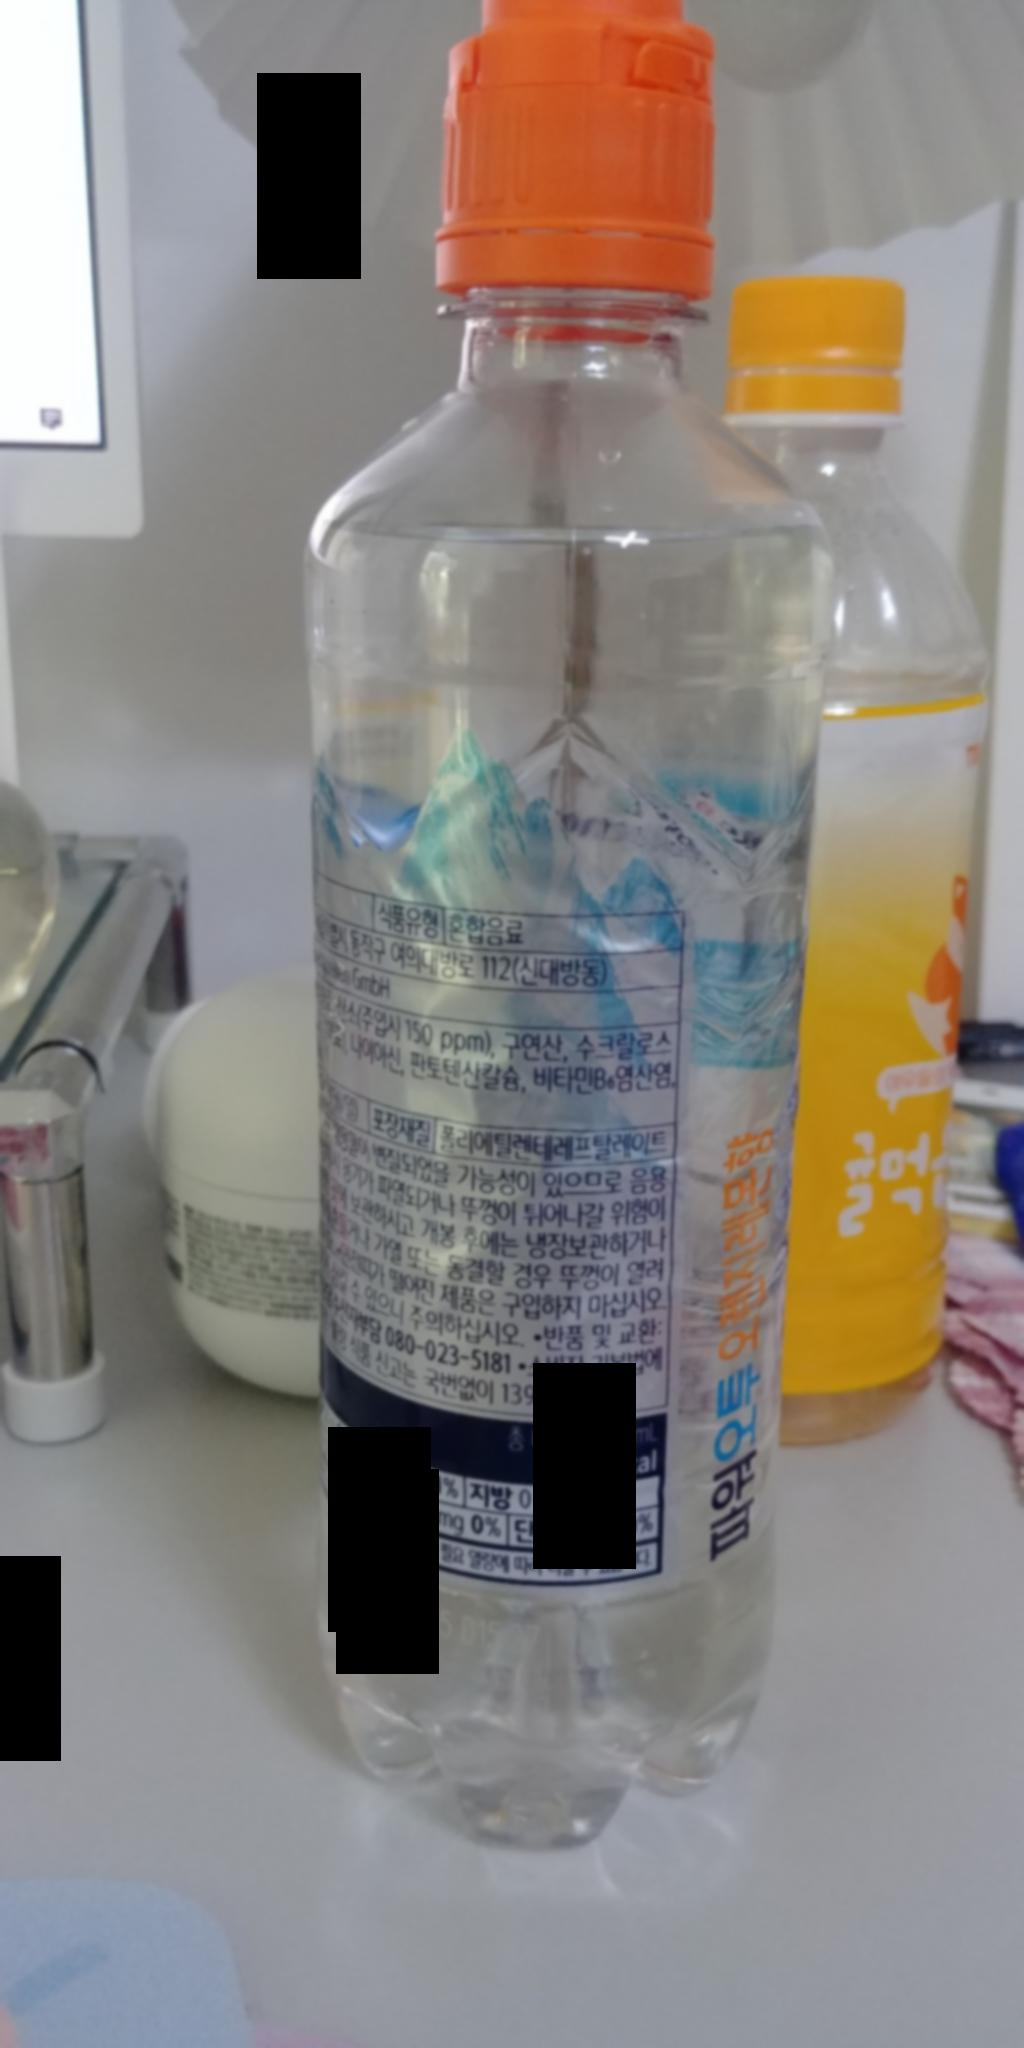powerO2_orange: (293, 0, 802, 1866)
